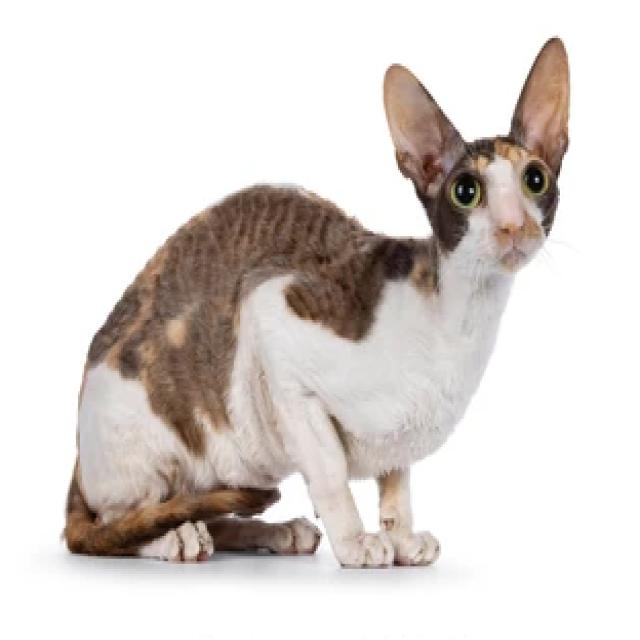Cornish Rex: (56, 30, 576, 579)
